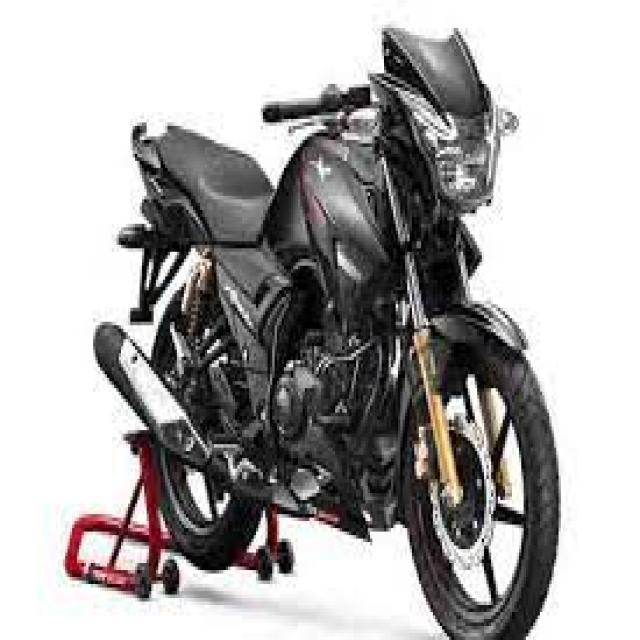bike: (96, 22, 563, 631)
